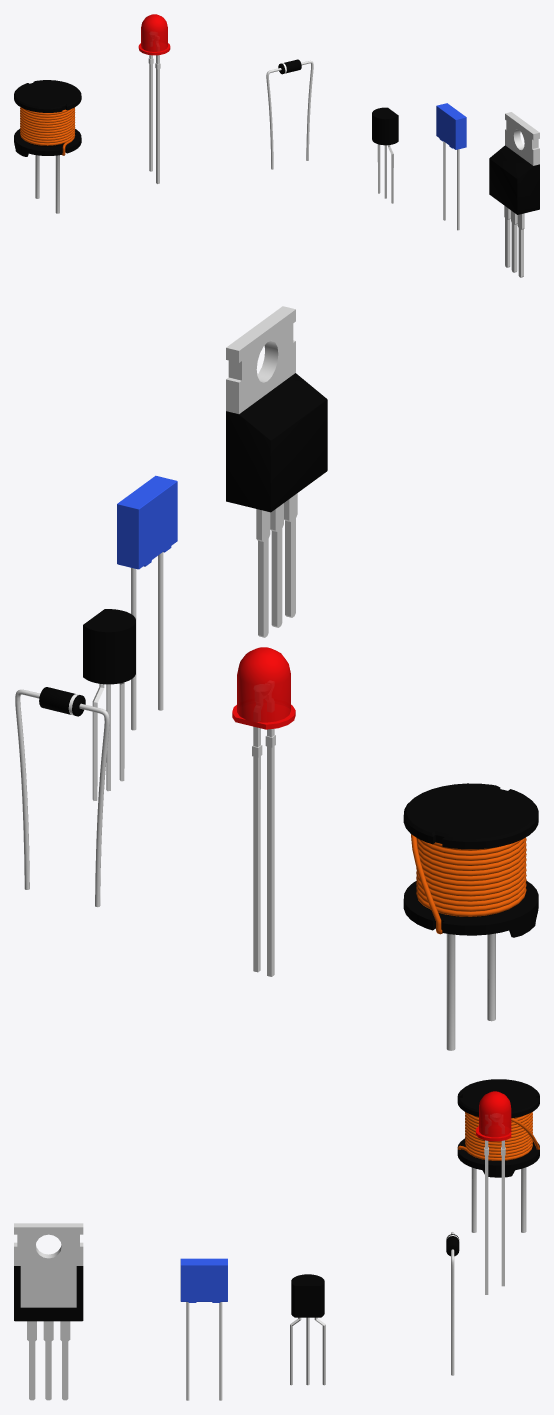
File: transisterjfet.fbx
3 renders of one model, top to bottom at view 1: azimuth 30°, elevation 25°; view 2: azimuth 150°, elevation 25°; view 3: azimuth 270°, elevation 25°, orthographic. The views are drawn at different scales.
Visible parts, largest first — view 1: Inductor-Radial, TO-220, Wire, Heatsink, Legs.005, Capacitor-Film, Diode-Light-Emitting, Legs, TO-92, Legs.003, Legs.009, Legs.004 (+1 smaller); view 2: TO-220, Inductor-Radial, Wire, Heatsink, Capacitor-Film, Legs.005, Diode-Light-Emitting, Legs, TO-92, Legs.003, Legs.009, Legs.004 (+2 smaller); view 3: Heatsink, Inductor-Radial, Capacitor-Film, Wire, Legs.005, TO-220, Diode-Light-Emitting, TO-92, Legs, Legs.006, Legs.004, Legs.009 (+1 smaller).
Boxes of the visible parts, left/top/right/bottom form: Inductor-Radial: left=14, top=80, right=81, bottom=156; TO-220: left=489, top=145, right=539, bottom=214; Wire: left=20, top=107, right=75, bottom=155; Heatsink: left=505, top=112, right=539, bottom=165; Legs.005: left=504, top=205, right=524, bottom=277; Capacitor-Film: left=436, top=103, right=466, bottom=149; Diode-Light-Emitting: left=138, top=14, right=170, bottom=55; Legs: left=148, top=55, right=160, bottom=183; TO-92: left=372, top=107, right=398, bottom=145; Legs.003: left=266, top=60, right=313, bottom=169; Legs.009: left=35, top=155, right=59, bottom=213; Legs.004: left=377, top=144, right=393, bottom=203; TO-220: left=226, top=373, right=327, bottom=512; Inductor-Radial: left=403, top=783, right=538, bottom=937; Wire: left=411, top=834, right=526, bottom=934; Heatsink: left=226, top=306, right=295, bottom=413; Capacitor-Film: left=117, top=475, right=177, bottom=569; Legs.005: left=256, top=493, right=297, bottom=637; Diode-Light-Emitting: left=232, top=647, right=295, bottom=729; Legs: left=252, top=726, right=275, bottom=976; TO-92: left=83, top=609, right=135, bottom=684; Legs.003: left=15, top=689, right=109, bottom=907; Legs.009: left=446, top=933, right=495, bottom=1050; Legs.004: left=92, top=682, right=124, bottom=800; Heatsink: left=14, top=1223, right=83, bottom=1307; Inductor-Radial: left=457, top=1079, right=539, bottom=1177; Capacitor-Film: left=180, top=1258, right=227, bottom=1302; Wire: left=457, top=1112, right=539, bottom=1160; Legs.005: left=27, top=1321, right=70, bottom=1400; TO-220: left=14, top=1266, right=83, bottom=1321; Diode-Light-Emitting: left=476, top=1091, right=511, bottom=1141; TO-92: left=291, top=1274, right=324, bottom=1317; Legs: left=484, top=1140, right=505, bottom=1294; Legs.006: left=186, top=1302, right=222, bottom=1400; Legs.004: left=290, top=1317, right=325, bottom=1385; Legs.009: left=471, top=1167, right=526, bottom=1232.
Size of the model in its own units: 6.89 by 3.38 by 7.99.
